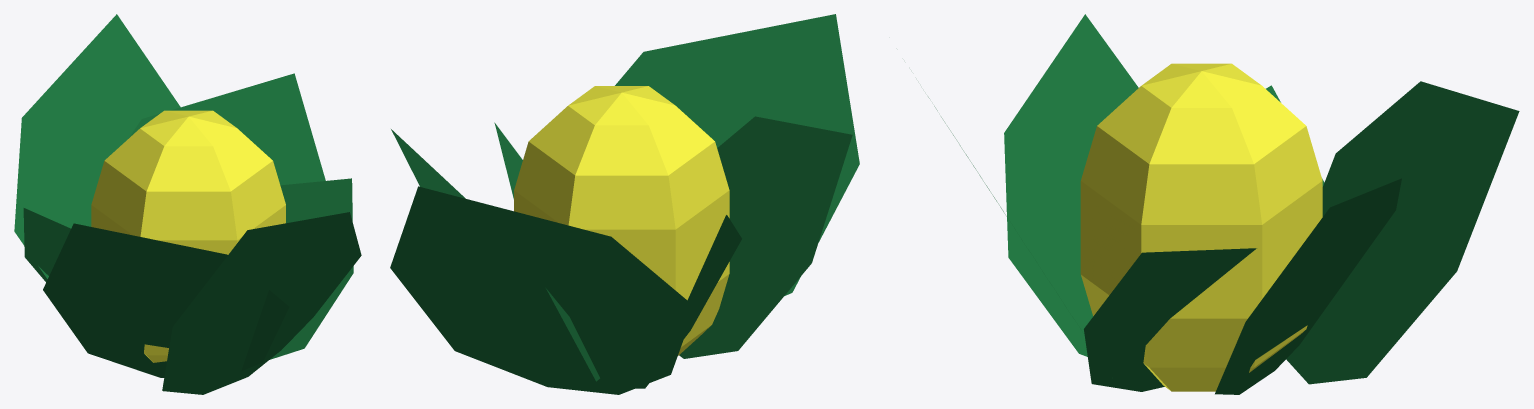
File: MM_Plant_B.fbx
3 renders of one model, left to right at view 1: azimuth 30°, elevation 25°; view 2: azimuth 150°, elevation 25°; view 3: azimuth 270°, elevation 25°, orthographic. The views are drawn at different scales.
Parts seen in each view (by area): view 1: Plane.014, Plane.004, Plane.019, Plane.023, Plane.021, Plane.022, Plane.020; view 2: Plane.023, Plane.014, Plane.019, Plane.004, Plane.020, Plane.021, Plane.022; view 3: Plane.014, Plane.023, Plane.019, Plane.021, Plane.022.
Boxes of the visible parts, x1=… form: Plane.014: x1=91, y1=110, x2=285, y2=362; Plane.004: x1=162, y1=212, x2=361, y2=394; Plane.019: x1=43, y1=223, x2=289, y2=377; Plane.023: x1=14, y1=14, x2=180, y2=278; Plane.021: x1=128, y1=73, x2=325, y2=185; Plane.022: x1=270, y1=178, x2=353, y2=359; Plane.020: x1=23, y1=208, x2=70, y2=282; Plane.023: x1=390, y1=186, x2=695, y2=394; Plane.014: x1=514, y1=86, x2=729, y2=355; Plane.019: x1=679, y1=116, x2=852, y2=358; Plane.004: x1=615, y1=14, x2=859, y2=295; Plane.020: x1=636, y1=215, x2=741, y2=388; Plane.021: x1=391, y1=129, x2=599, y2=381; Plane.022: x1=494, y1=122, x2=522, y2=198; Plane.014: x1=1080, y1=63, x2=1322, y2=391; Plane.023: x1=1286, y1=81, x2=1519, y2=384; Plane.019: x1=1004, y1=14, x2=1138, y2=356; Plane.021: x1=1215, y1=178, x2=1401, y2=394; Plane.022: x1=1084, y1=248, x2=1256, y2=391.
Size of the model in its own units: 19.35 by 14.59 by 26.67.
